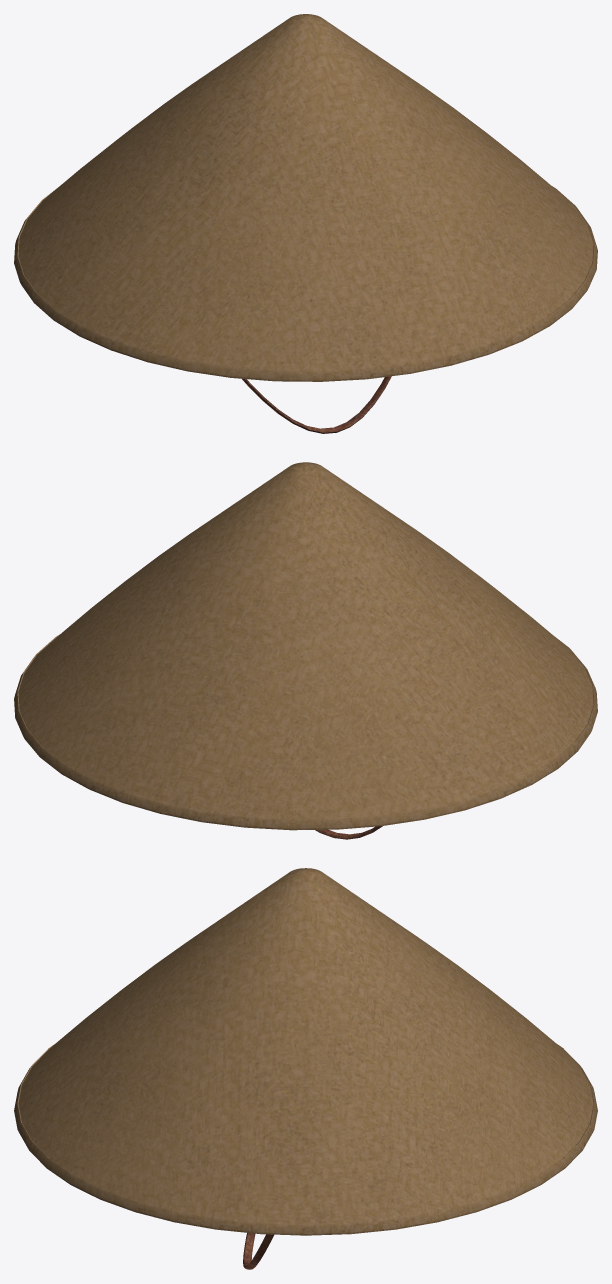
3 views of the same model, one above another, from view 1: azimuth 30°, elevation 25°; view 2: azimuth 150°, elevation 25°; view 3: azimuth 270°, elevation 25° (orthographic).
Visible parts, largest first — view 1: Hut_0; view 2: Hut_0; view 3: Hut_0.
Part boxes in pixels (box(x1,y1,x2,y2)): Hut_0: box(14, 14, 597, 433); Hut_0: box(14, 462, 597, 839); Hut_0: box(14, 868, 597, 1269).
Size of the model in its own units: 0.5545 by 0.412 by 0.5545.
1 material, 1 textured.
